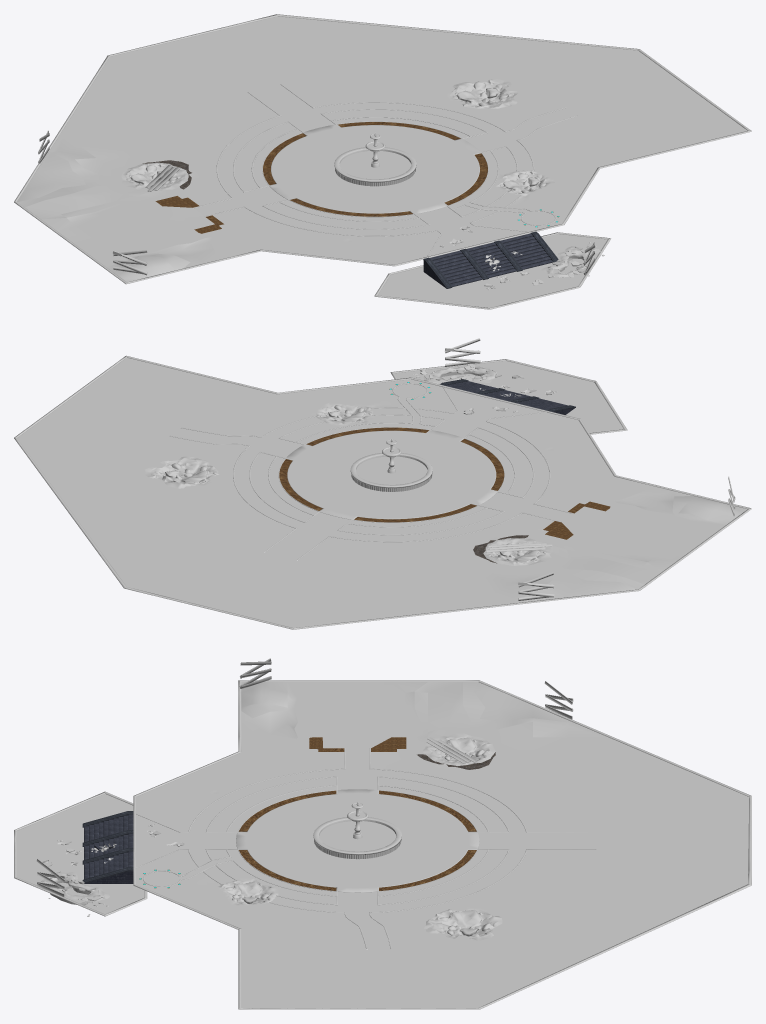
Rendered from floor.dae.
3 renders of one model, top to bottom at view 1: azimuth 30°, elevation 25°; view 2: azimuth 150°, elevation 25°; view 3: azimuth 270°, elevation 25°, orthographic. The views are drawn at different scales.
Parts seen in each view (by area): view 1: set_floor-geom-P10, set_floor-geom-P1, set_floor-geom-P15, set_floor-geom-P0, set_floor-geom-P13, set_floor-geom-P22, set_floor-geom-P5, set_floor-geom-P24, set_floor-geom-P14, set_floor-geom-P2, set_floor-geom-P7, set_floor-geom-P4 (+7 smaller); view 2: set_floor-geom-P10, set_floor-geom-P1, set_floor-geom-P15, set_floor-geom-P0, set_floor-geom-P13, set_floor-geom-P22, set_floor-geom-P5, set_floor-geom-P14, set_floor-geom-P2, set_floor-geom-P7, set_floor-geom-P4, set_floor-geom-P9 (+5 smaller); view 3: set_floor-geom-P10, set_floor-geom-P1, set_floor-geom-P15, set_floor-geom-P0, set_floor-geom-P13, set_floor-geom-P22, set_floor-geom-P5, set_floor-geom-P14, set_floor-geom-P2, set_floor-geom-P24, set_floor-geom-P4, set_floor-geom-P7 (+6 smaller).
Boxes of the visible parts, box(x1,y1,x2,y2) form: set_floor-geom-P10: box(18, 16, 747, 270); set_floor-geom-P1: box(194, 84, 607, 307); set_floor-geom-P15: box(17, 25, 654, 282); set_floor-geom-P0: box(14, 14, 751, 309); set_floor-geom-P13: box(25, 80, 742, 268); set_floor-geom-P22: box(253, 117, 554, 224); set_floor-geom-P5: box(282, 130, 468, 208); set_floor-geom-P24: box(423, 233, 553, 287); set_floor-geom-P14: box(75, 77, 565, 207); set_floor-geom-P2: box(155, 122, 487, 233); set_floor-geom-P7: box(125, 80, 554, 194); set_floor-geom-P4: box(269, 124, 480, 213); set_floor-geom-P10: box(17, 358, 725, 622); set_floor-geom-P1: box(170, 361, 616, 559); set_floor-geom-P15: box(21, 380, 747, 627); set_floor-geom-P0: box(14, 355, 751, 629); set_floor-geom-P13: box(89, 360, 709, 584); set_floor-geom-P22: box(269, 384, 514, 526); set_floor-geom-P5: box(299, 435, 484, 513); set_floor-geom-P14: box(135, 396, 568, 594); set_floor-geom-P2: box(279, 427, 610, 539); set_floor-geom-P7: box(151, 401, 546, 563); set_floor-geom-P4: box(286, 430, 497, 519); set_floor-geom-P9: box(145, 366, 557, 565); set_floor-geom-P10: box(136, 682, 748, 1007); set_floor-geom-P1: box(16, 748, 596, 949); set_floor-geom-P15: box(138, 682, 749, 1003); set_floor-geom-P0: box(14, 680, 751, 1009); set_floor-geom-P13: box(165, 682, 509, 1007); set_floor-geom-P22: box(144, 786, 487, 895); set_floor-geom-P5: box(257, 798, 457, 882); set_floor-geom-P14: box(186, 722, 568, 943); set_floor-geom-P2: box(239, 737, 476, 890); set_floor-geom-P24: box(83, 814, 133, 883); set_floor-geom-P4: box(236, 789, 479, 892); set_floor-geom-P7: box(217, 737, 498, 938).
Size of the model in its own units: 111 by 9.66 by 105.
